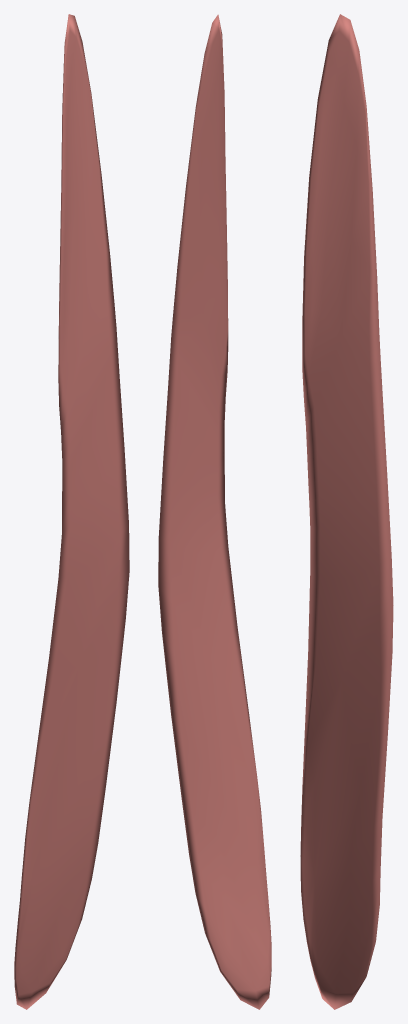
The picture shows the model from 3 angles, left to right: view 1: azimuth 30°, elevation 25°; view 2: azimuth 210°, elevation 25°; view 3: azimuth 330°, elevation 25°; orthographic projection. The views are drawn at different scales.
Visible parts, largest first — view 1: ZA_6bd2d81b5645bdcf; view 2: ZA_6bd2d81b5645bdcf; view 3: ZA_6bd2d81b5645bdcf.
Part boxes in pixels (x1,y1,x2,y2): ZA_6bd2d81b5645bdcf: (14,14,129,1009); ZA_6bd2d81b5645bdcf: (158,14,271,1009); ZA_6bd2d81b5645bdcf: (300,14,393,1009).
Bounding box in the file's own units: 0.0146 × 0.1393 × 0.00808.
